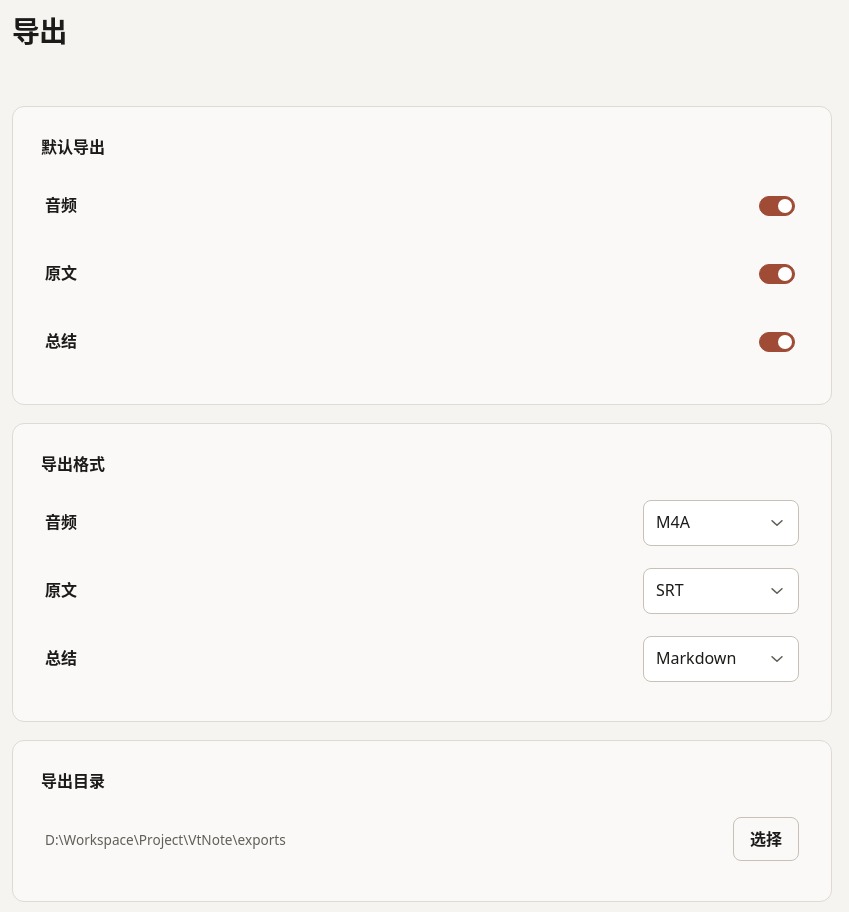
Test: SettingsPage › selects and persists a native export directory without a toast
Click the button "选择". click: coordinates (766, 839)
box: [733,817,799,861]
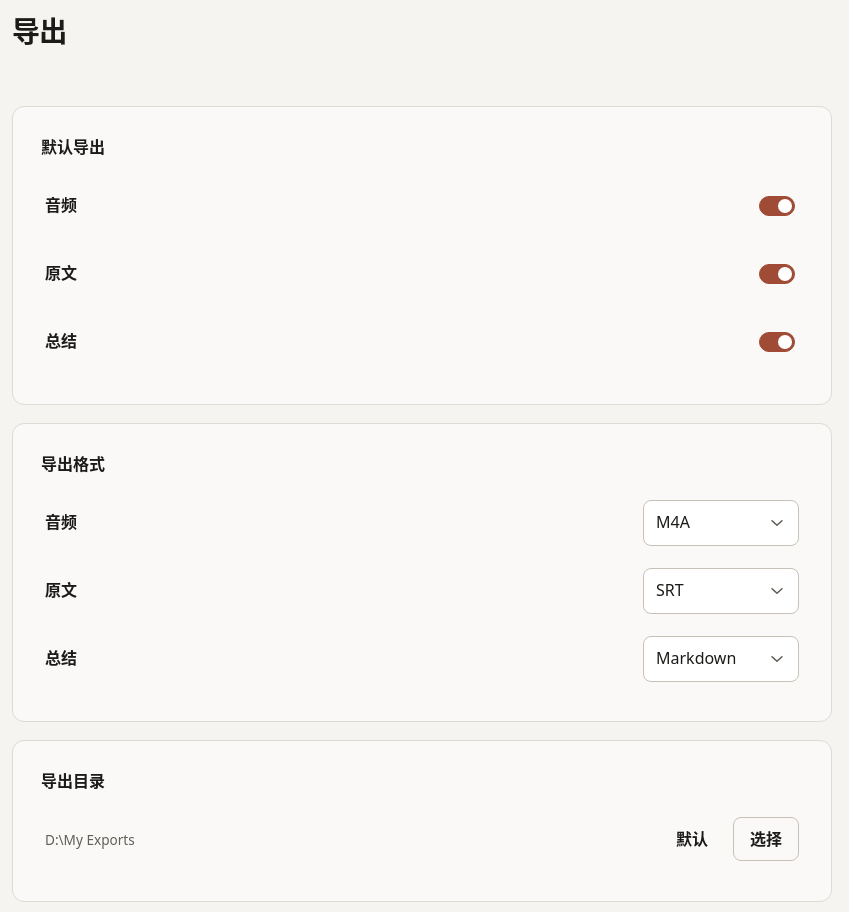
Now the text "D:\\My Exports" is shown, box [45,830,135,849]
